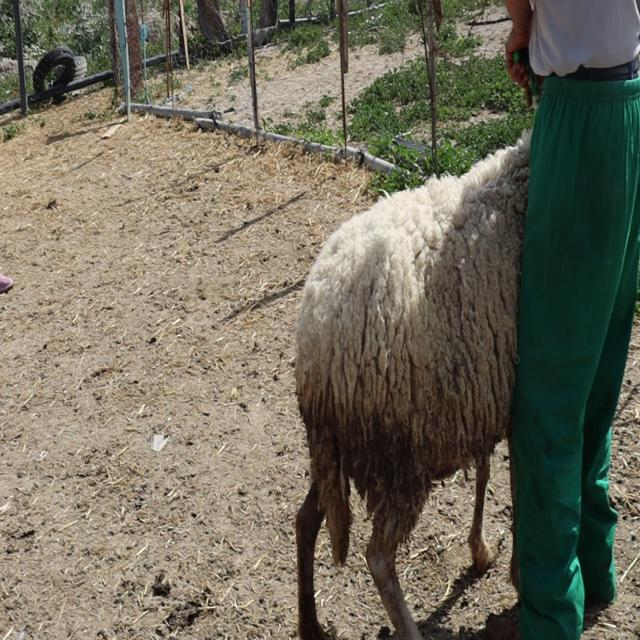Score_4: (295, 130, 531, 639)
